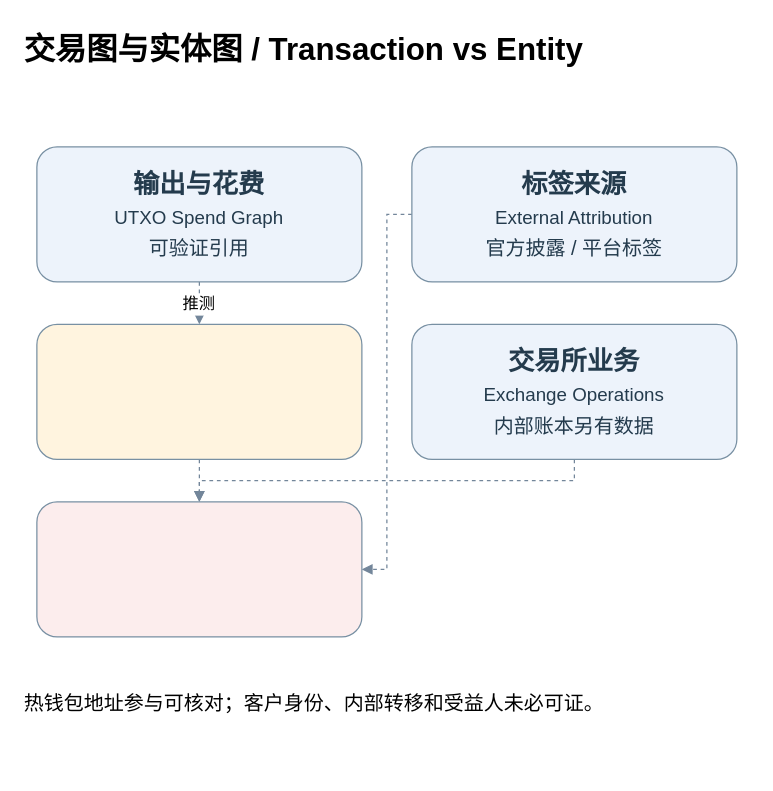
Some shapes in this 773 by 791 pixel diagram are drawn without their labels. Each missing label, with the box of its shape:
控制范围候选 Wallet Cluster 启发式与时效: (36, 323, 362, 459)
现实归属结论 Entity / Beneficiary 需逐层支持: (36, 501, 362, 637)
